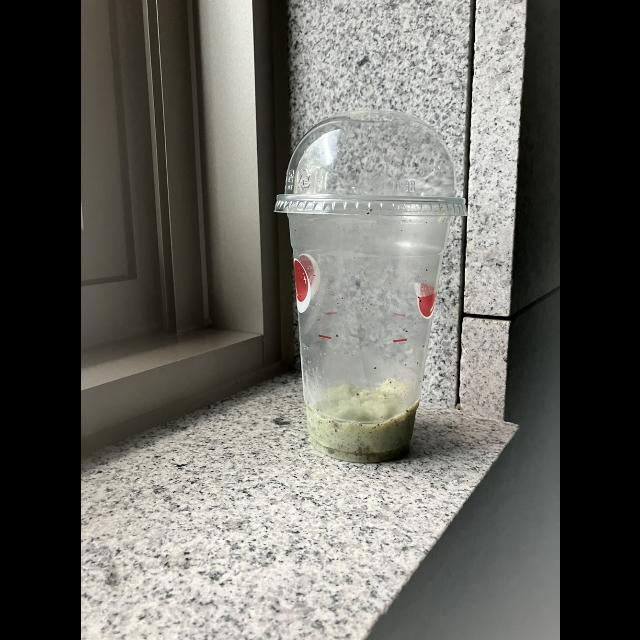plastic_cup: (256, 104, 472, 480)
plastic_cup_lid: (270, 115, 466, 222)
